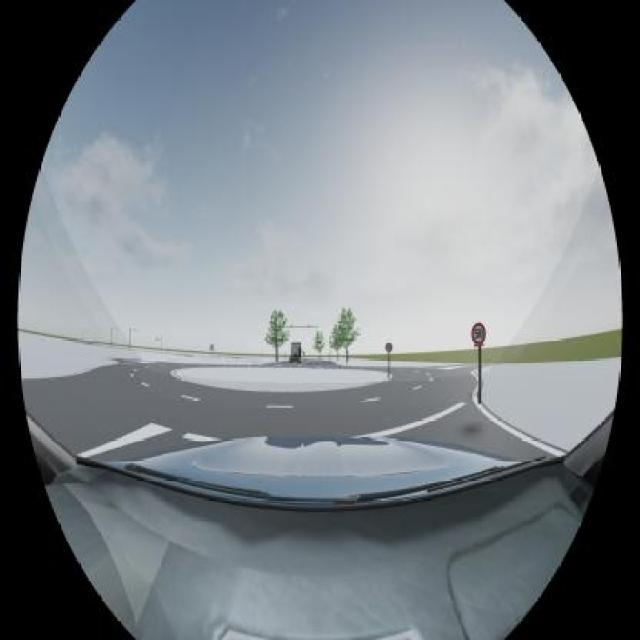forb_speed_over_50: (472, 322, 486, 344), (385, 342, 393, 353)
